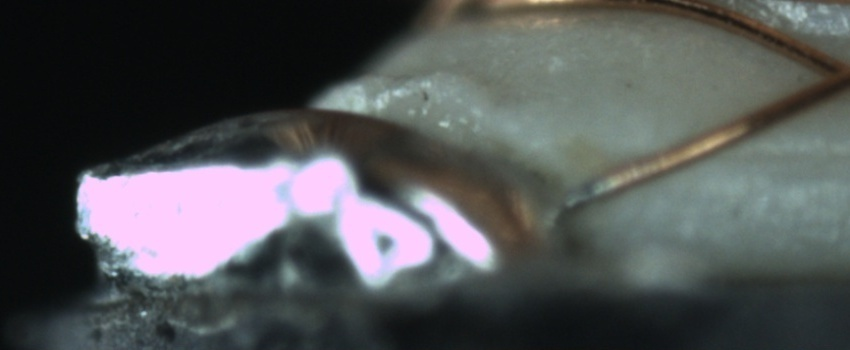CL: (797, 40, 850, 104)
DL: (702, 121, 848, 188)
TS: (561, 171, 611, 211)
